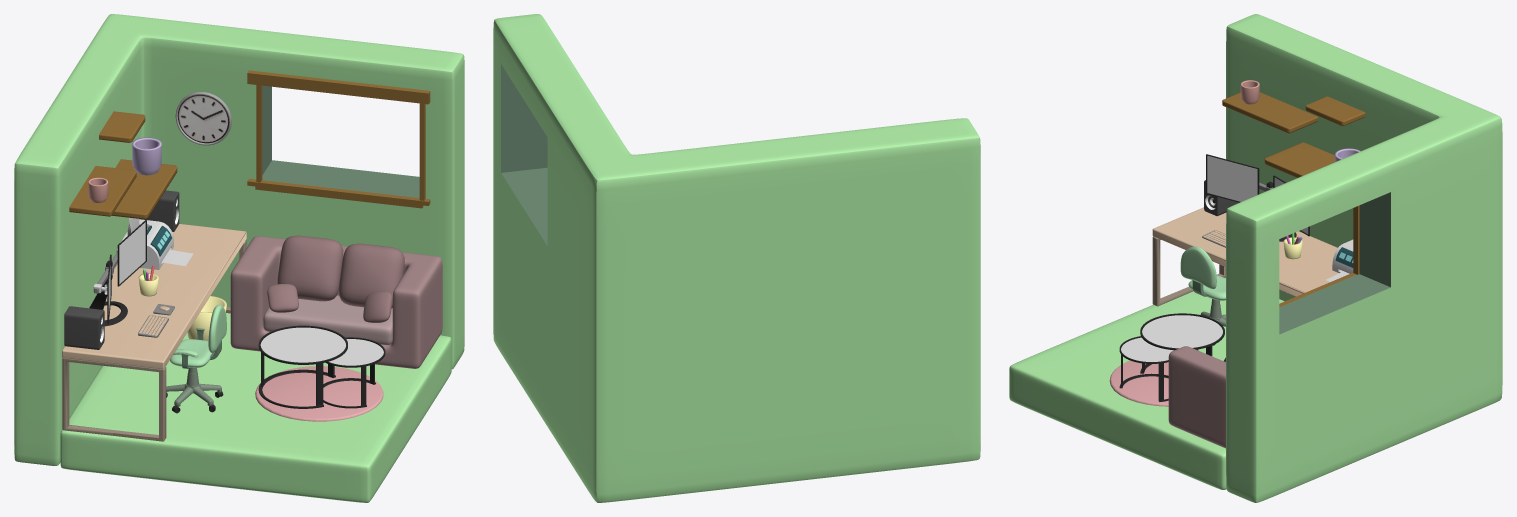
The model's file is studio.glb.
The picture shows the model from 3 angles, left to right: view 1: azimuth 30°, elevation 25°; view 2: azimuth 150°, elevation 25°; view 3: azimuth 270°, elevation 25°; orthographic projection. The views are drawn at different scales.
Parts seen in each view (by area): view 1: wall, floor, Cube, couch, Circle.003, Cube.013, couch.001, Cube.014, Cube.110, glass2, Cube.002, Cube.076 (+22 smaller); view 2: wall; view 3: wall, floor, couch, Cube, glass2, Cube.105, screen1, Circle.003, Cube.076, Cube.009, Cube.103, Cube.002 (+3 smaller).
Part boxes in pixels (left/top/right/bottom): wall: left=14, top=14, right=464, bottom=465; floor: left=60, top=313, right=451, bottom=502; Cube: left=62, top=224, right=246, bottom=369; couch: left=230, top=236, right=442, bottom=368; Circle.003: left=255, top=366, right=383, bottom=421; Cube.013: left=277, top=235, right=343, bottom=301; couch.001: left=263, top=295, right=392, bottom=344; Cube.014: left=339, top=243, right=404, bottom=308; Cube.110: left=247, top=70, right=430, bottom=104; glass2: left=260, top=327, right=345, bottom=362; Cube.002: left=62, top=358, right=166, bottom=441; Cube.076: left=112, top=159, right=177, bottom=219; wall: left=493, top=14, right=980, bottom=502; wall: left=1226, top=14, right=1502, bottom=502; floor: left=1009, top=278, right=1284, bottom=489; couch: left=1168, top=346, right=1225, bottom=448; Cube: left=1152, top=207, right=1338, bottom=296; glass2: left=1142, top=315, right=1222, bottom=348; Cube.105: left=1222, top=92, right=1317, bottom=133; screen1: left=1207, top=155, right=1257, bottom=201; Circle.003: left=1109, top=360, right=1168, bottom=406; Cube.076: left=1264, top=142, right=1334, bottom=177; Cube.009: left=1180, top=246, right=1216, bottom=288; Cube.103: left=1305, top=96, right=1365, bottom=125; Cube.002: left=1152, top=236, right=1225, bottom=306.
Bounding box in the file's own units: 4.92 × 3.15 × 4.93.
Materials: 31 (1 with a texture image).
